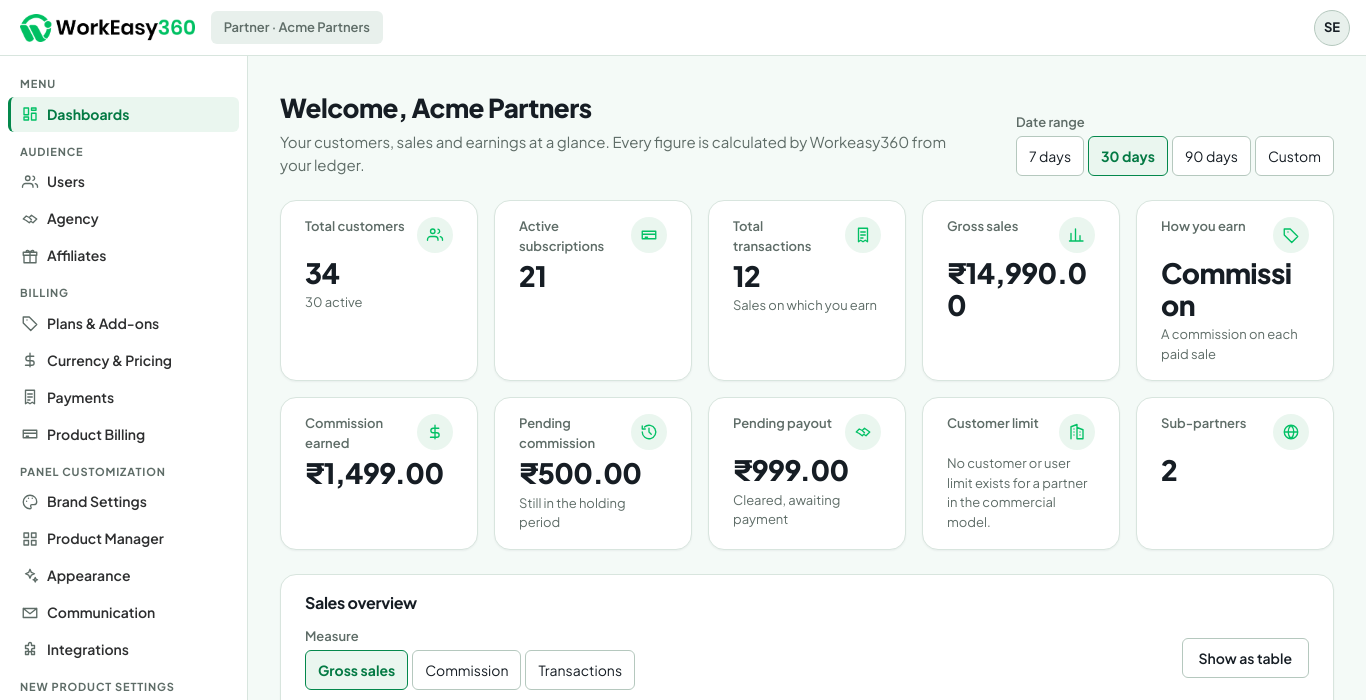
Test: the dashboard › draws the chart from the server's per-day amounts and offers the same data as a table
The image size is (1366, 700).
Click the button "Show as table" at (1245, 658), box top-left (1182, 638), bottom-right (1309, 678)
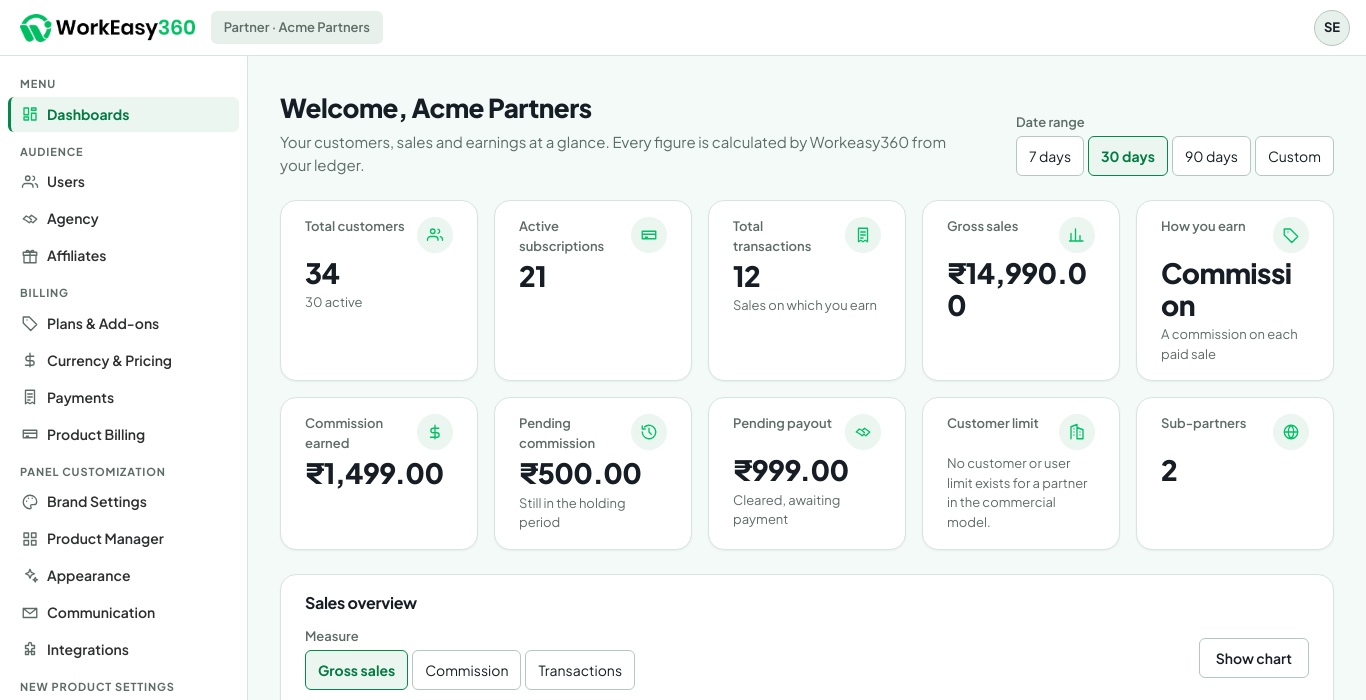
Click the button "Transactions" at (580, 670), box top-left (525, 650), bottom-right (635, 690)
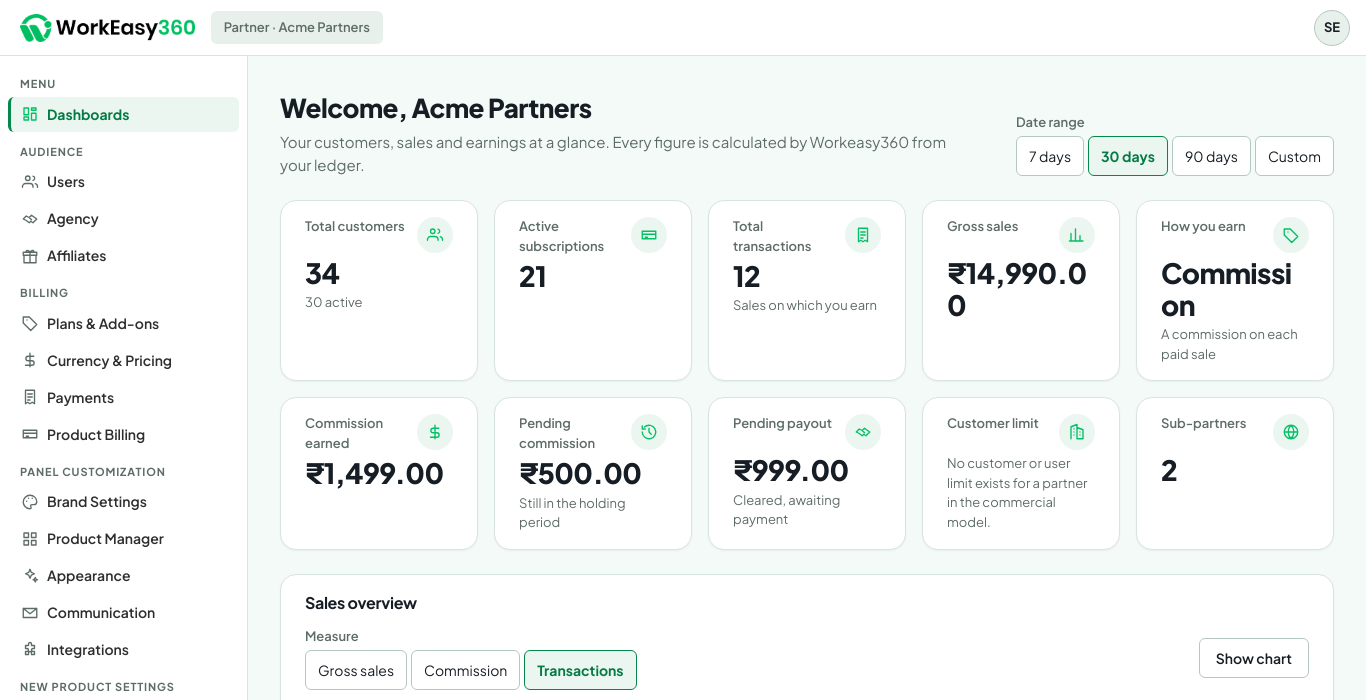
Click the button "Show chart" at (1254, 658), box top-left (1199, 638), bottom-right (1309, 678)
(page scrolled)
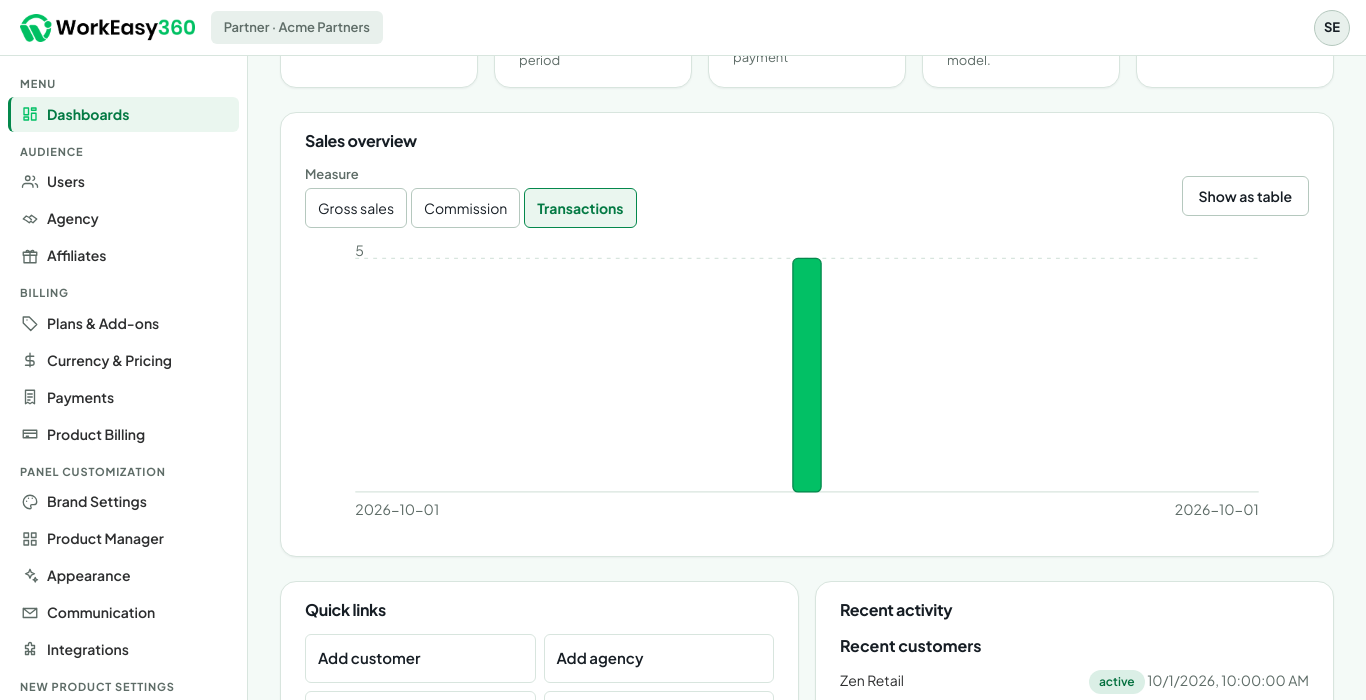
Now the picture named "Transactions by day" is shown, box top-left (345, 243), bottom-right (1269, 525)
